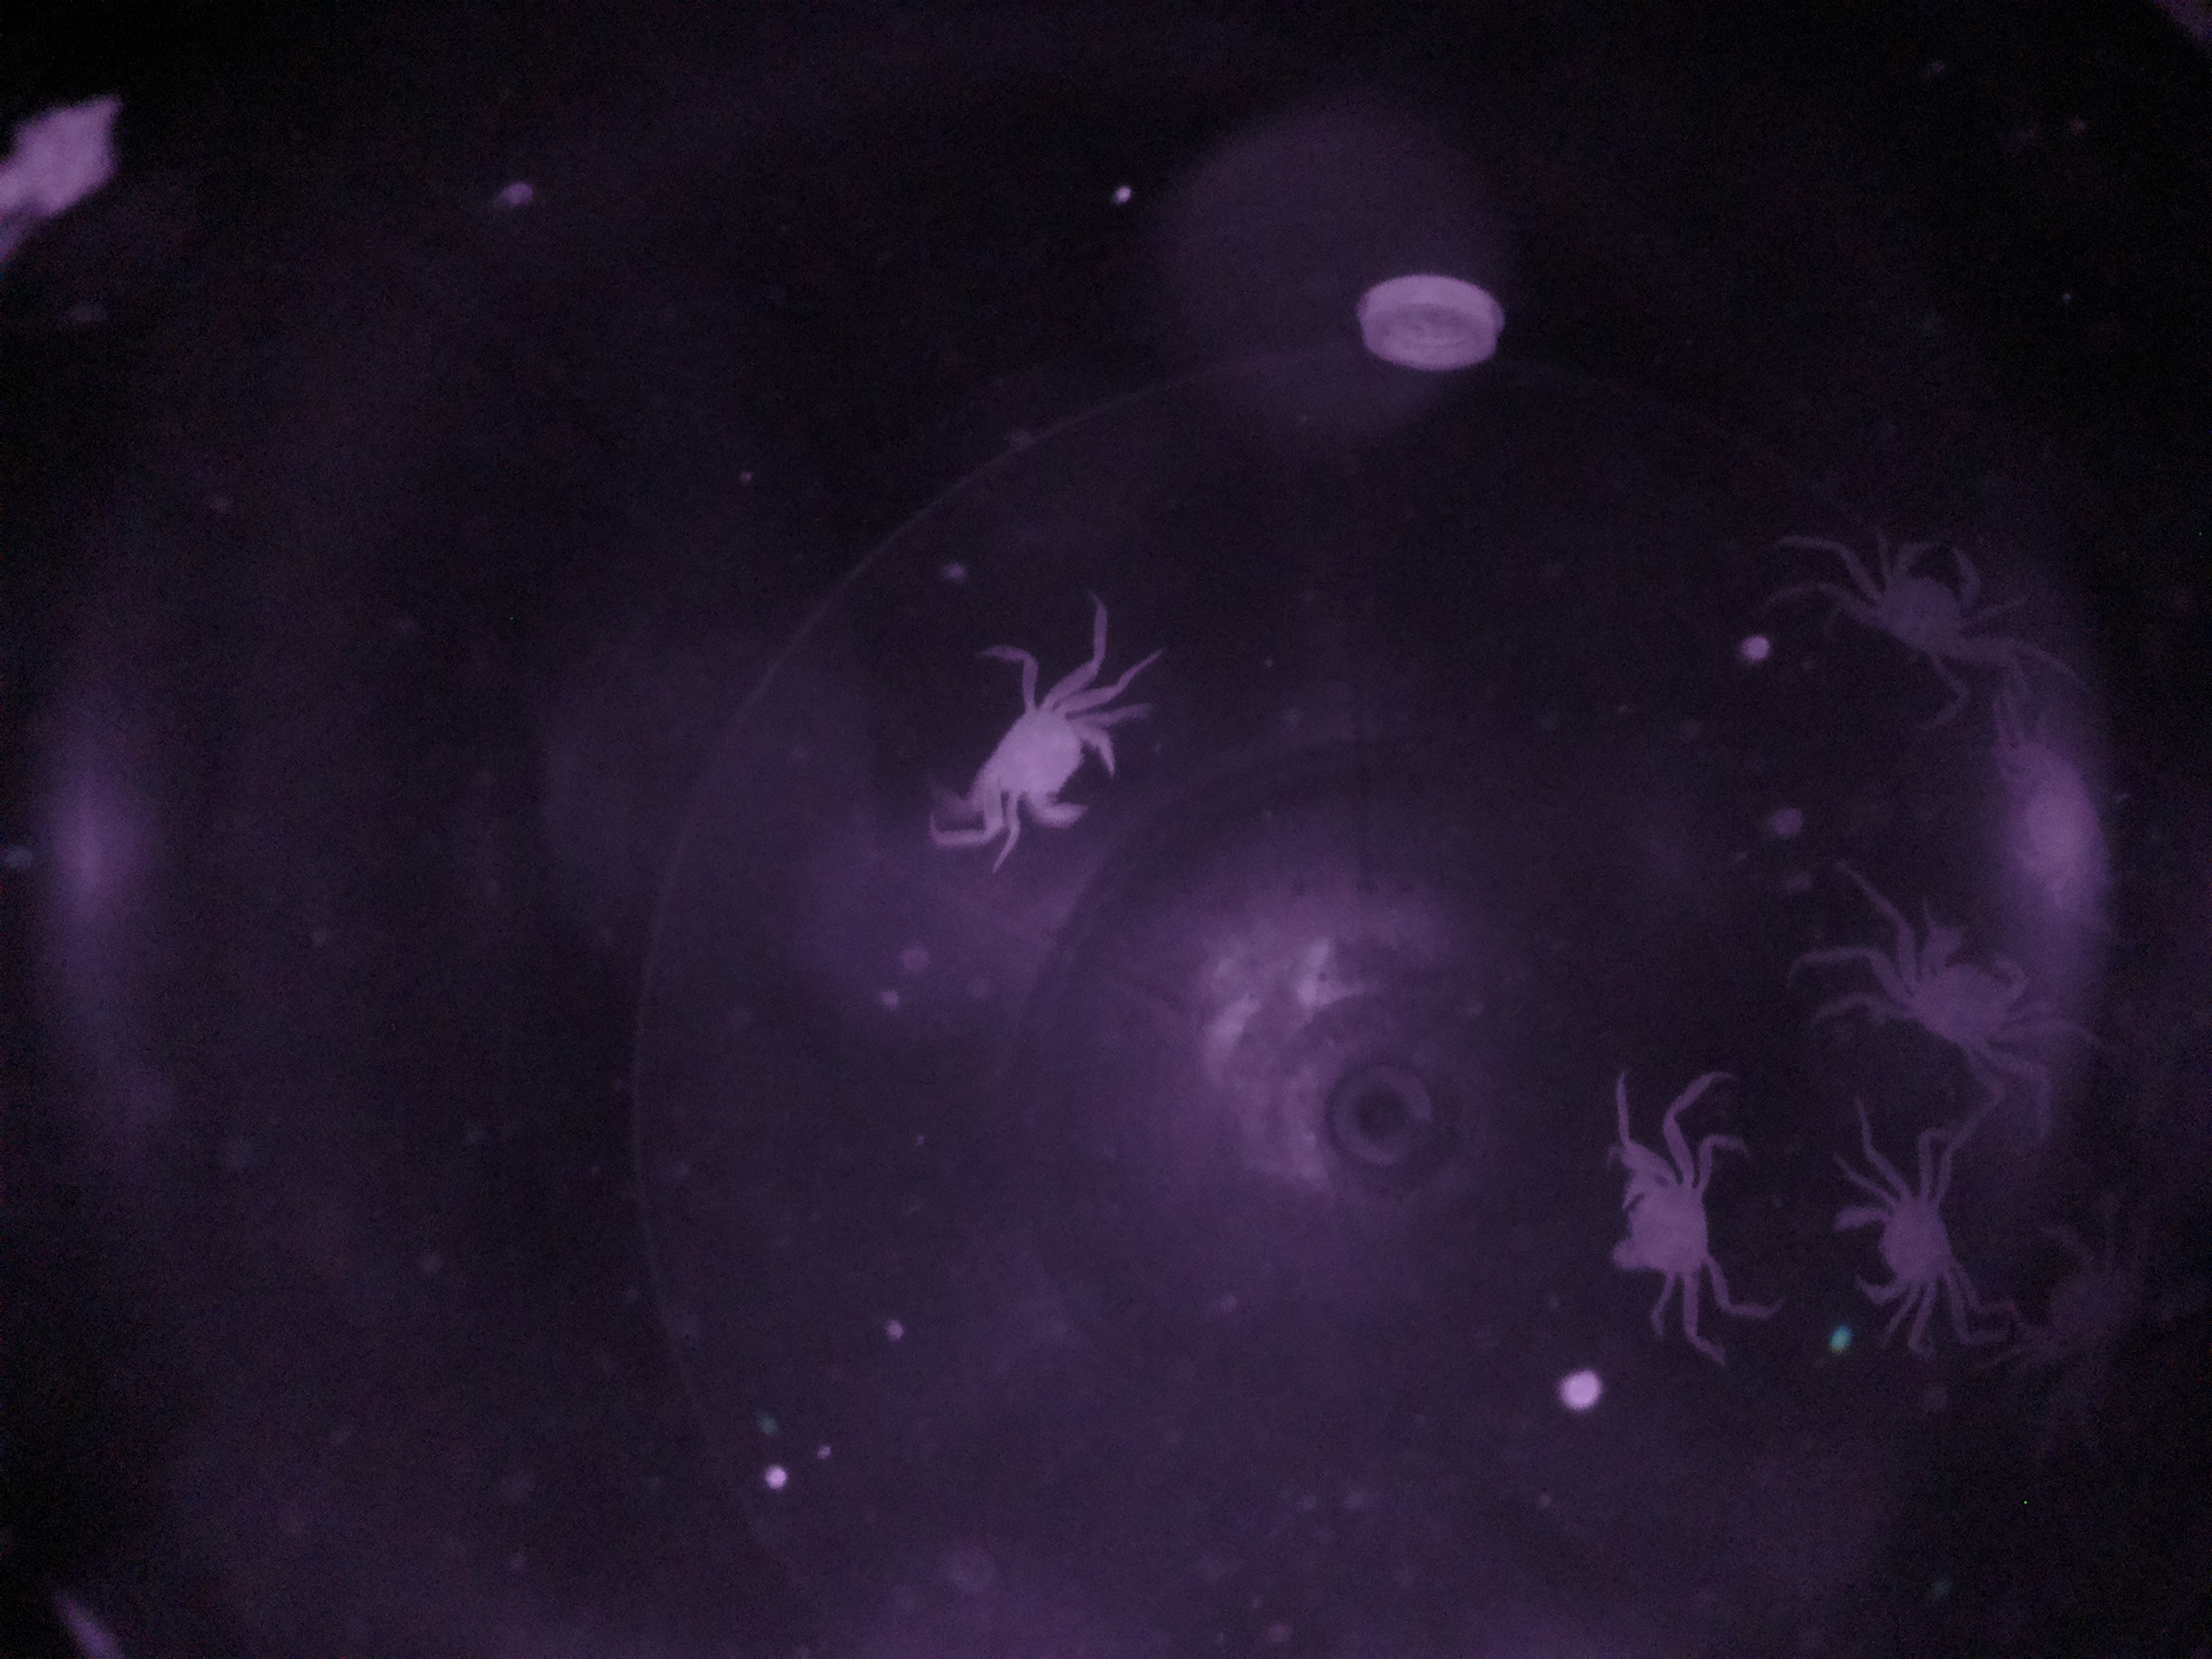Crab: (939, 664, 1129, 859), (1871, 892, 2050, 1084), (1831, 518, 2010, 692), (1595, 1121, 1738, 1317), (1818, 1155, 1980, 1321)
